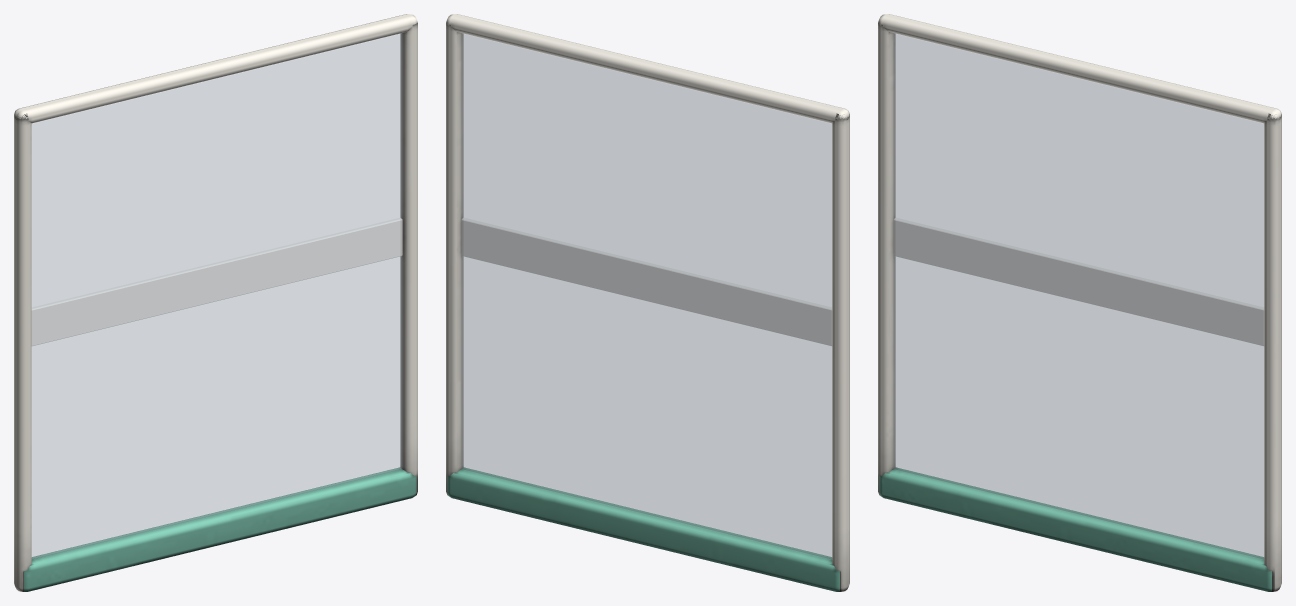
Rendered from glass_partition.glb.
The picture shows the model from 3 angles, left to right: view 1: azimuth 30°, elevation 25°; view 2: azimuth 150°, elevation 25°; view 3: azimuth 330°, elevation 25°; orthographic projection.
Parts seen in each view (by area): view 1: glass_partition; view 2: glass_partition; view 3: glass_partition.
Part boxes in pixels (<box>): glass_partition: <box>14,14,417,591</box>; glass_partition: <box>446,14,849,591</box>; glass_partition: <box>878,14,1281,591</box>.
Size of the model in its own units: 2 by 2.3 by 0.09.
4 materials, 2 textured.
